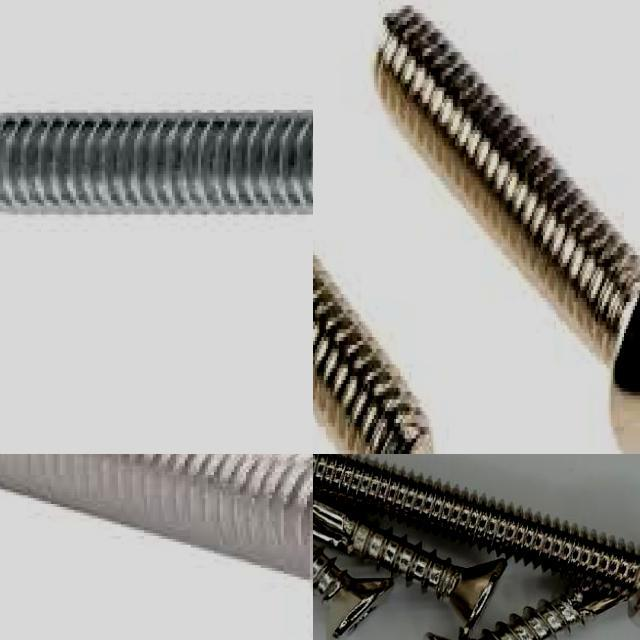Screw: (372, 5, 640, 454), (313, 454, 640, 615), (0, 454, 313, 598), (0, 113, 313, 217), (313, 501, 506, 637), (313, 258, 434, 454), (477, 586, 628, 640), (313, 543, 391, 639)
